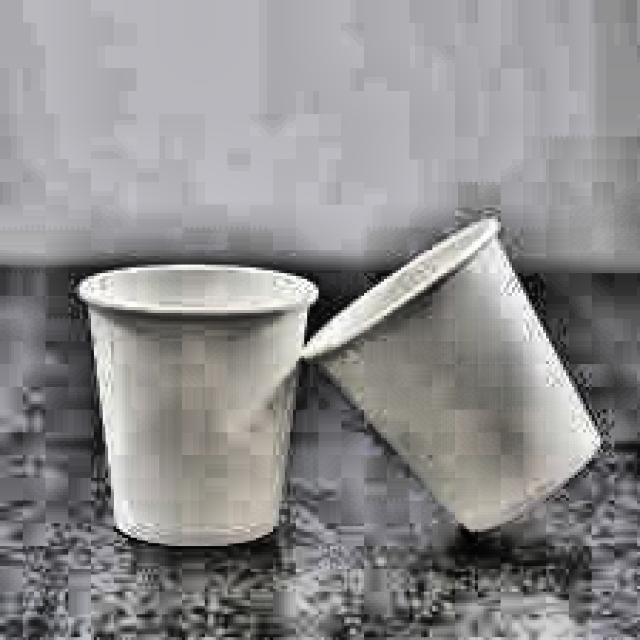Cup: (302, 200, 617, 561), (71, 255, 328, 561)
